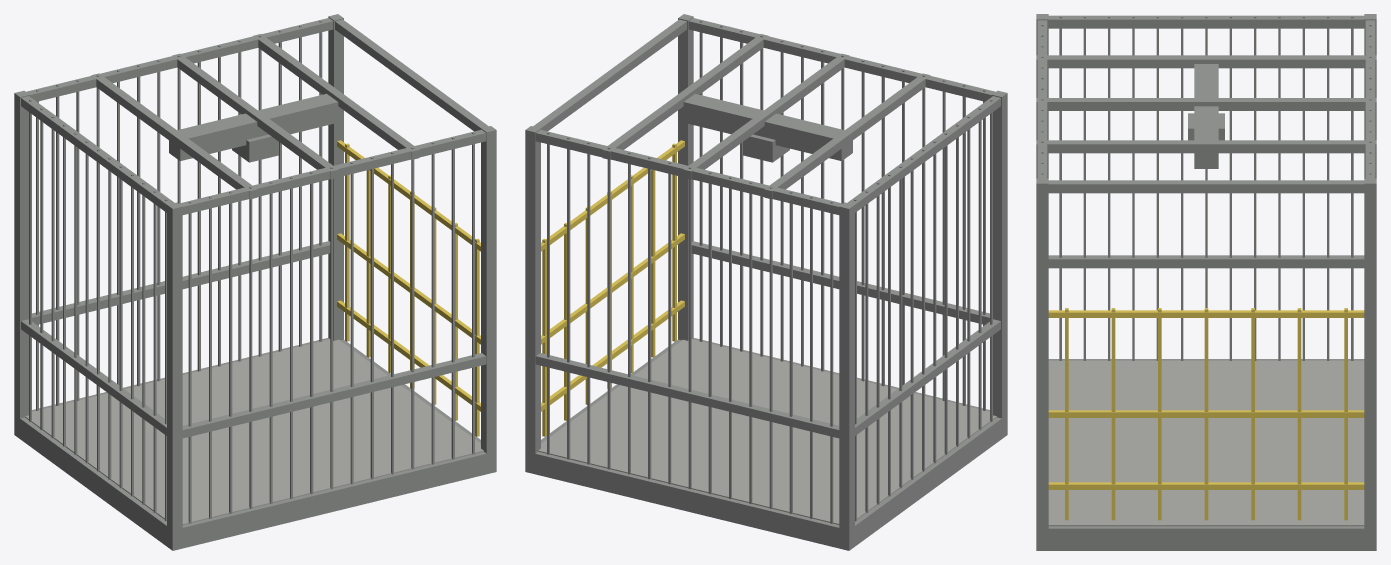
The model's file is dm_freightelevator.glb.
The picture shows the model from 3 angles, left to right: view 1: azimuth 30°, elevation 25°; view 2: azimuth 150°, elevation 25°; view 3: azimuth 270°, elevation 25°; orthographic projection. The views are drawn at different scales.
Parts seen in each view (by area): view 1: dm_freightelevator; view 2: dm_freightelevator; view 3: dm_freightelevator.
Part boxes in pixels (box(x1,y1,x2,y2)): dm_freightelevator: box(14, 14, 496, 550); dm_freightelevator: box(525, 14, 1007, 550); dm_freightelevator: box(1036, 14, 1376, 550).
Bounding box in the file's own units: 3.28 × 3.31 × 2.78.
